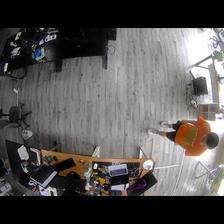normal: (146, 118, 219, 157)
